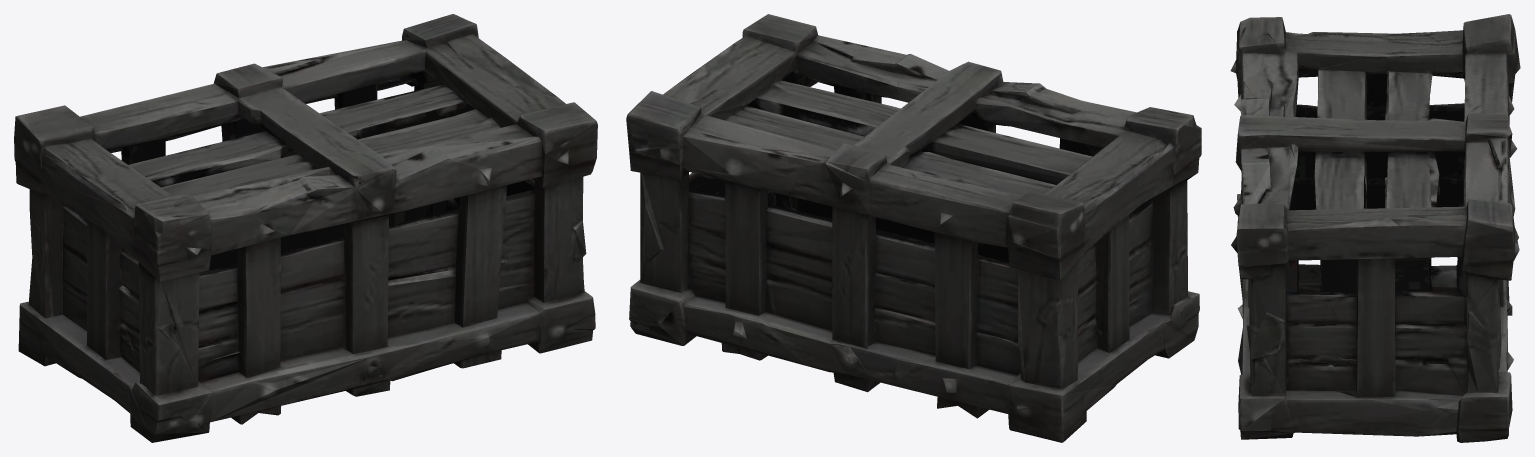
The model's file is bog_crate_01.glb.
3 views of the same model, side by side, from view 1: azimuth 30°, elevation 25°; view 2: azimuth 150°, elevation 25°; view 3: azimuth 270°, elevation 25° (orthographic). The views are drawn at different scales.
Parts seen in each view (by area): view 1: geometry_0; view 2: geometry_0; view 3: geometry_0.
Part boxes in pixels (x1,y1,x2,y2): geometry_0: (14,14,597,442); geometry_0: (626,14,1201,442); geometry_0: (1230,14,1520,442).
Size of the model in its own units: 0.9986 by 0.5222 by 0.5894.
Materials: 1 (1 with a texture image).
